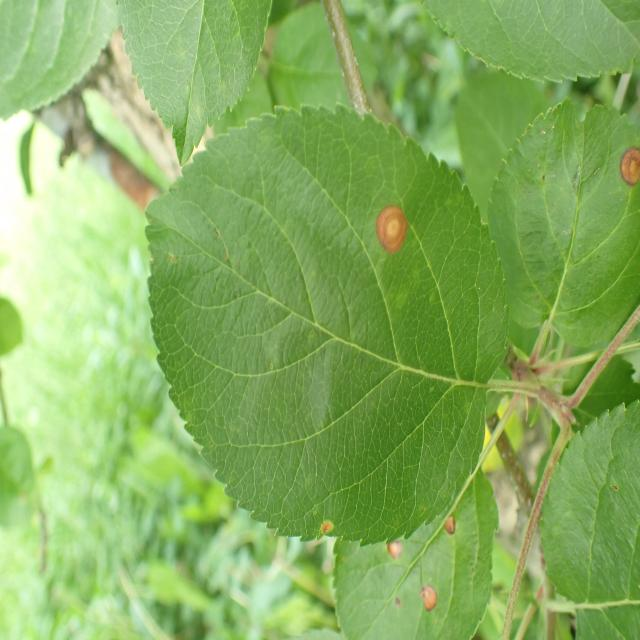frog-eye-leaf-spot: (143, 106, 512, 548), (485, 99, 640, 360), (331, 471, 500, 640)
